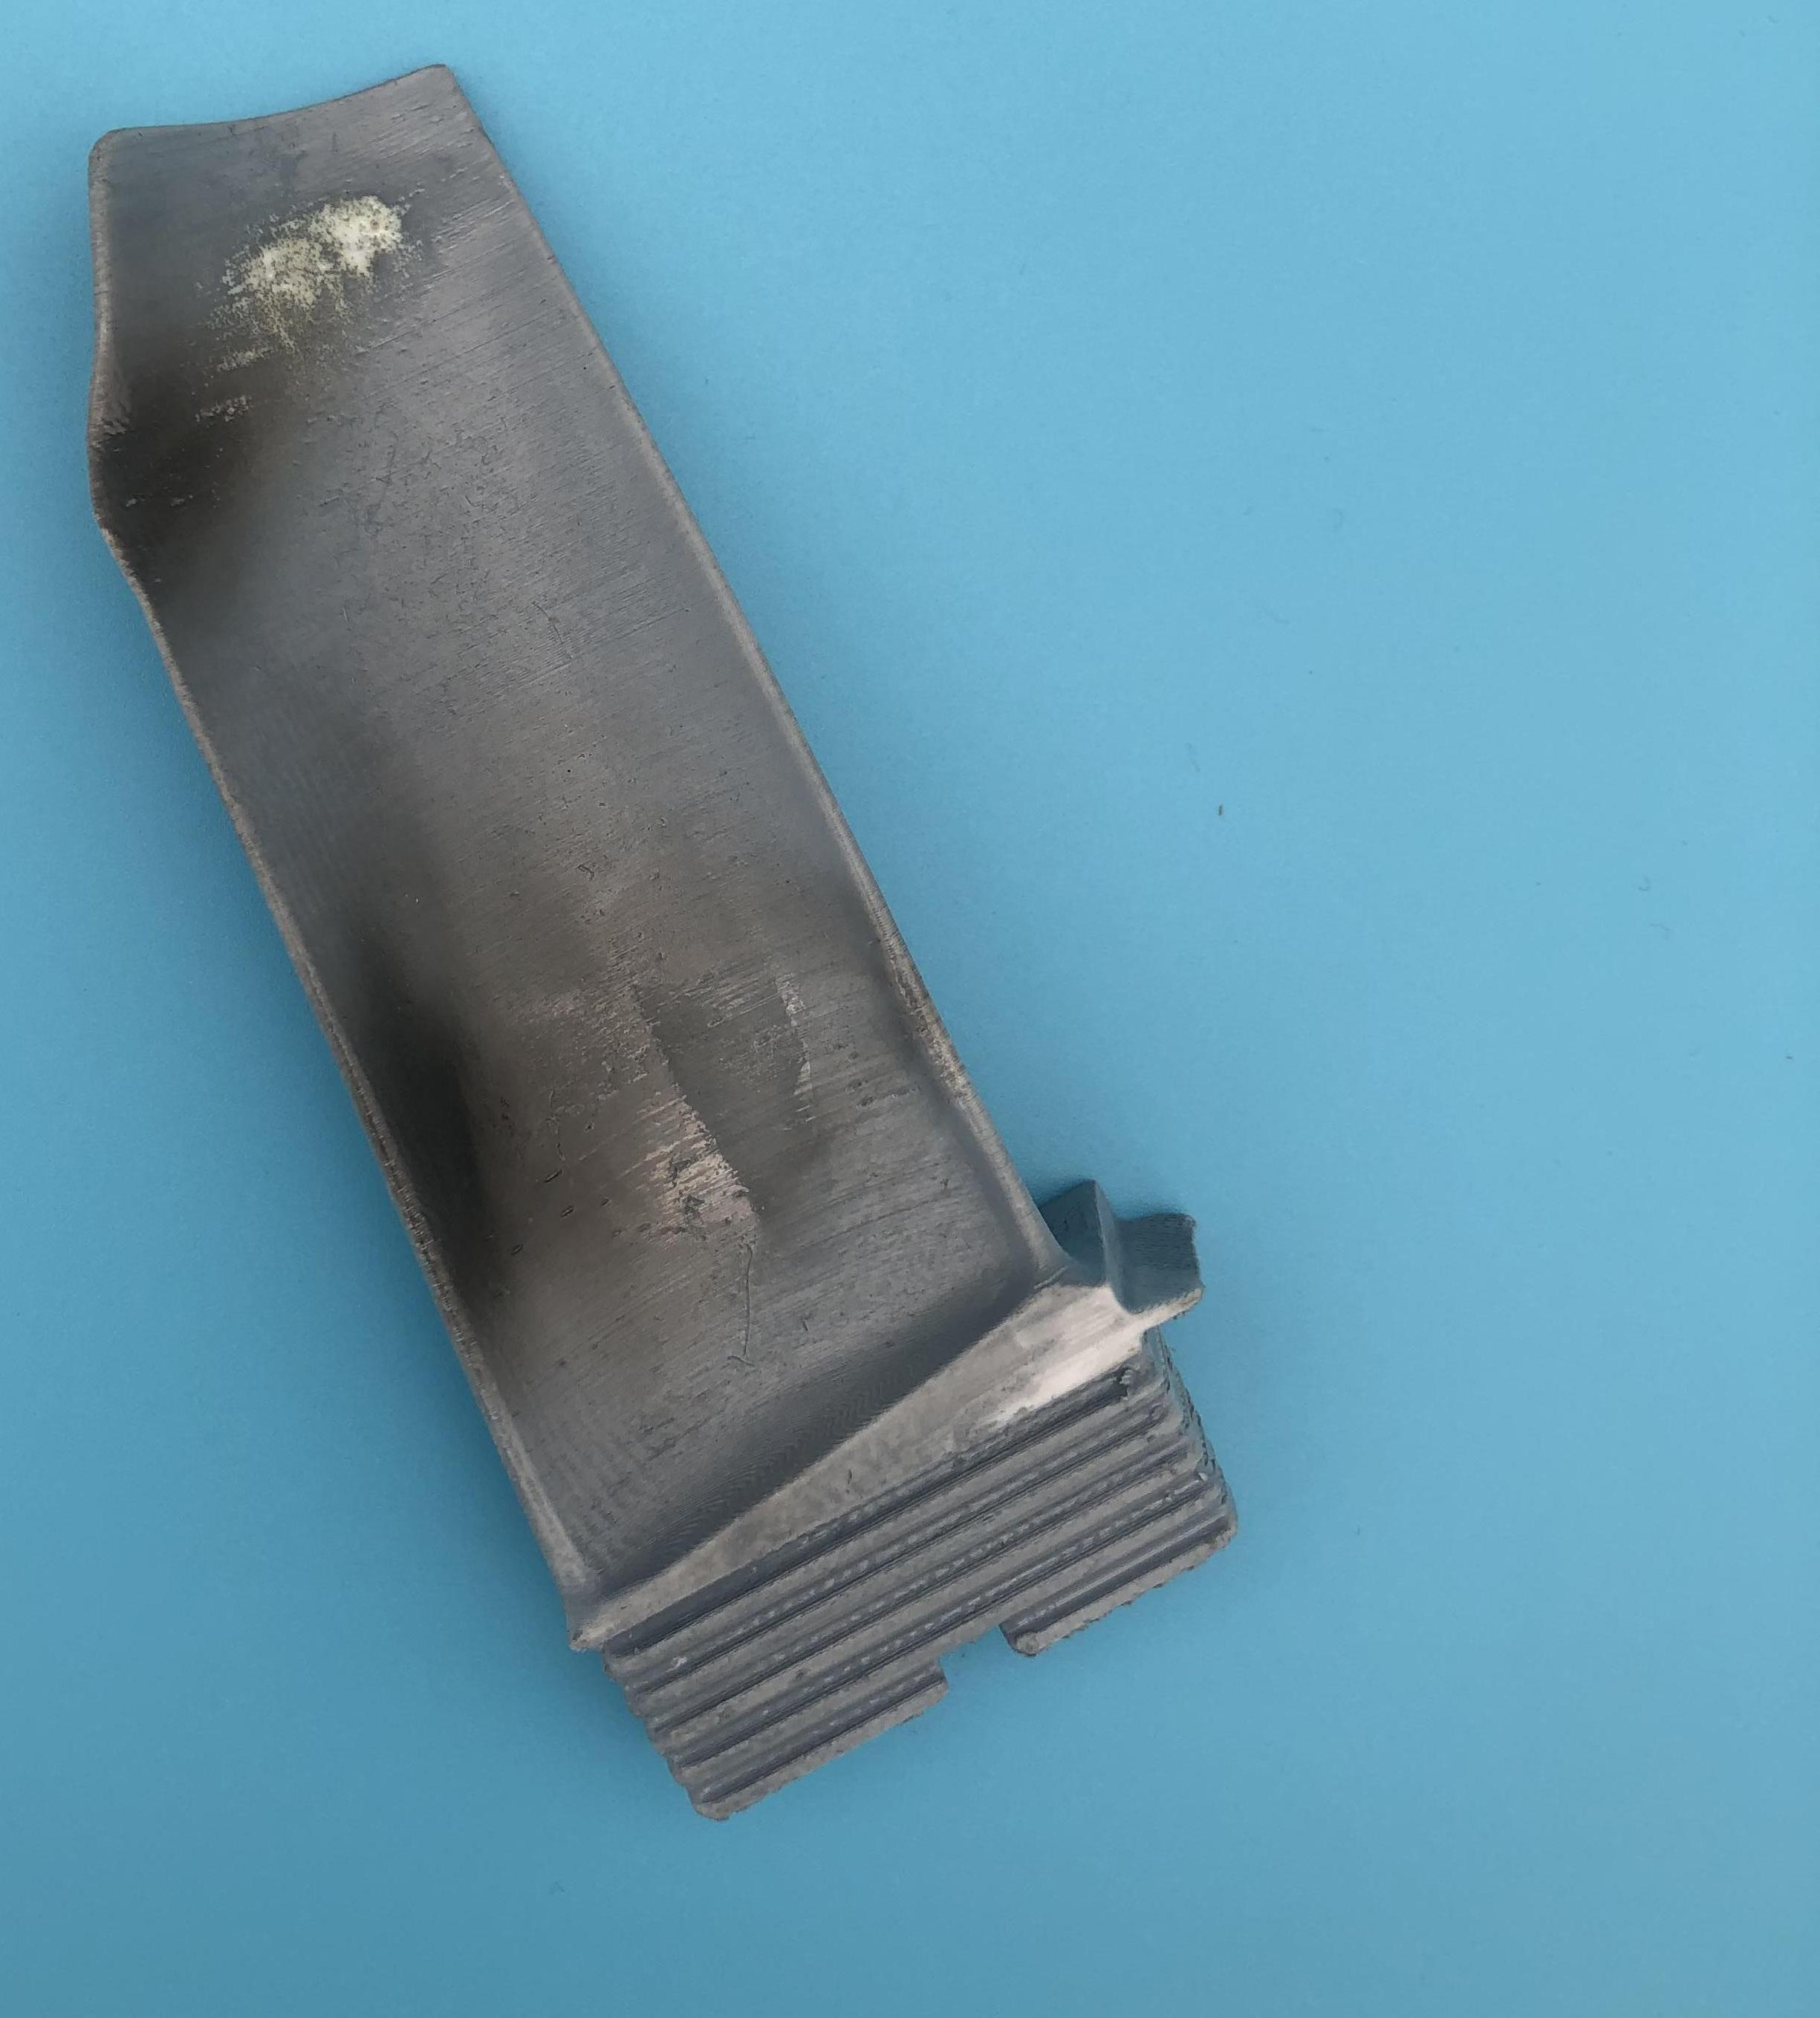ablation: (367, 954, 771, 1279), (114, 241, 314, 557)
